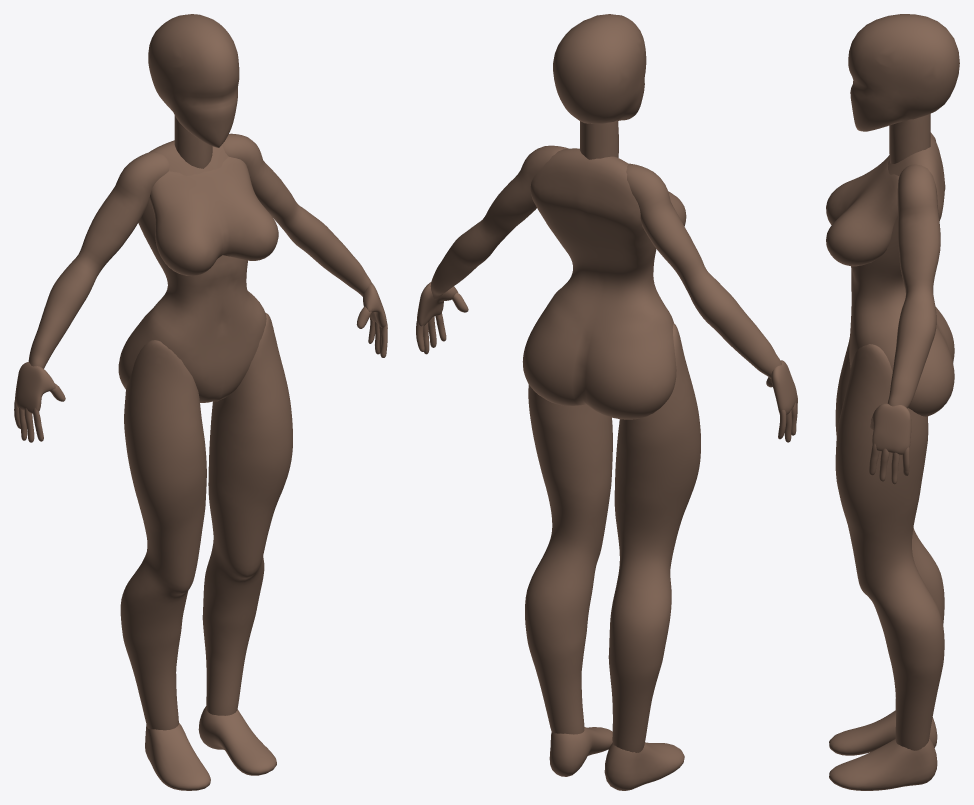
Rendered from medium-dark.glb.
The picture shows the model from 3 angles, left to right: view 1: azimuth 30°, elevation 25°; view 2: azimuth 150°, elevation 25°; view 3: azimuth 270°, elevation 25°; orthographic projection. The views are drawn at different scales.
Visible parts, largest first — view 1: FEMALE BODY TYPE 1_FEMALE BODY TYPE 1_0; view 2: FEMALE BODY TYPE 1_FEMALE BODY TYPE 1_0; view 3: FEMALE BODY TYPE 1_FEMALE BODY TYPE 1_0.
Boxes of the visible parts, x1,y1,x2,y2 form: FEMALE BODY TYPE 1_FEMALE BODY TYPE 1_0: [14, 14, 387, 790]; FEMALE BODY TYPE 1_FEMALE BODY TYPE 1_0: [416, 14, 797, 790]; FEMALE BODY TYPE 1_FEMALE BODY TYPE 1_0: [826, 14, 959, 790].
Size of the model in its own units: 0.8632 by 1.68 by 0.2718.
